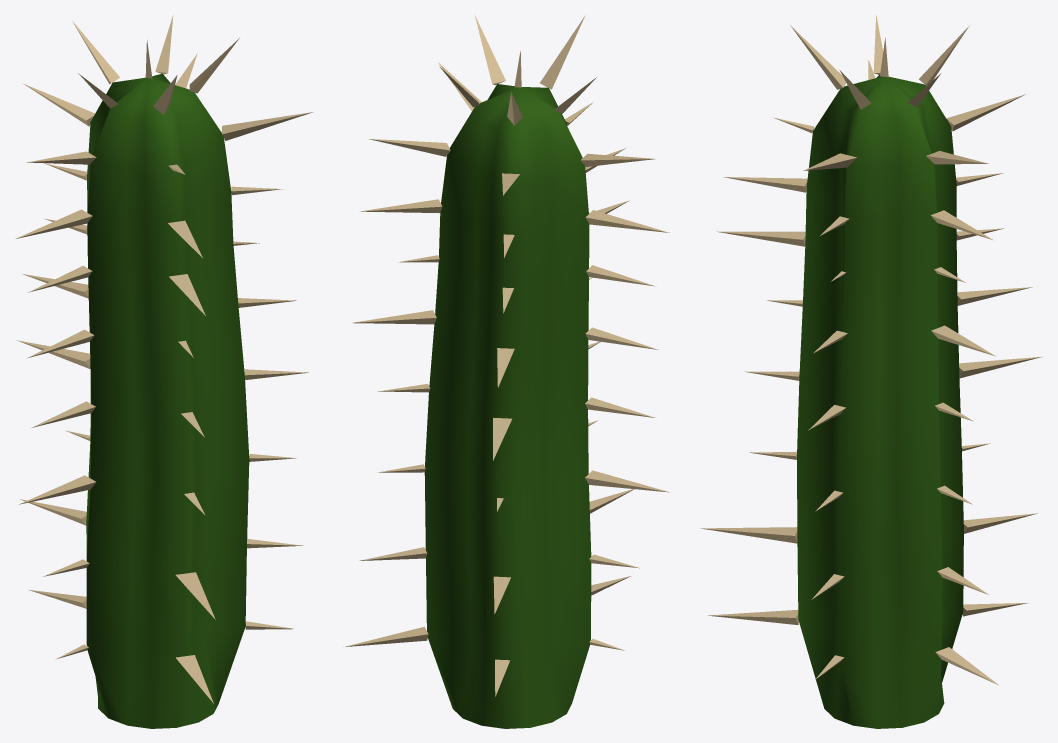
Rendered from cactusMed.fbx.
3 renders of one model, left to right at view 1: azimuth 30°, elevation 25°; view 2: azimuth 150°, elevation 25°; view 3: azimuth 270°, elevation 25°, orthographic.
Parts seen in each view (by area): view 1: Sphere.001; view 2: Sphere.001; view 3: Sphere.001.
Boxes of the visible parts, <box> form: Sphere.001: <box>15,15,313,728</box>; Sphere.001: <box>345,14,669,728</box>; Sphere.001: <box>700,15,1042,728</box>.
Size of the model in its own units: 120 by 285 by 134.
